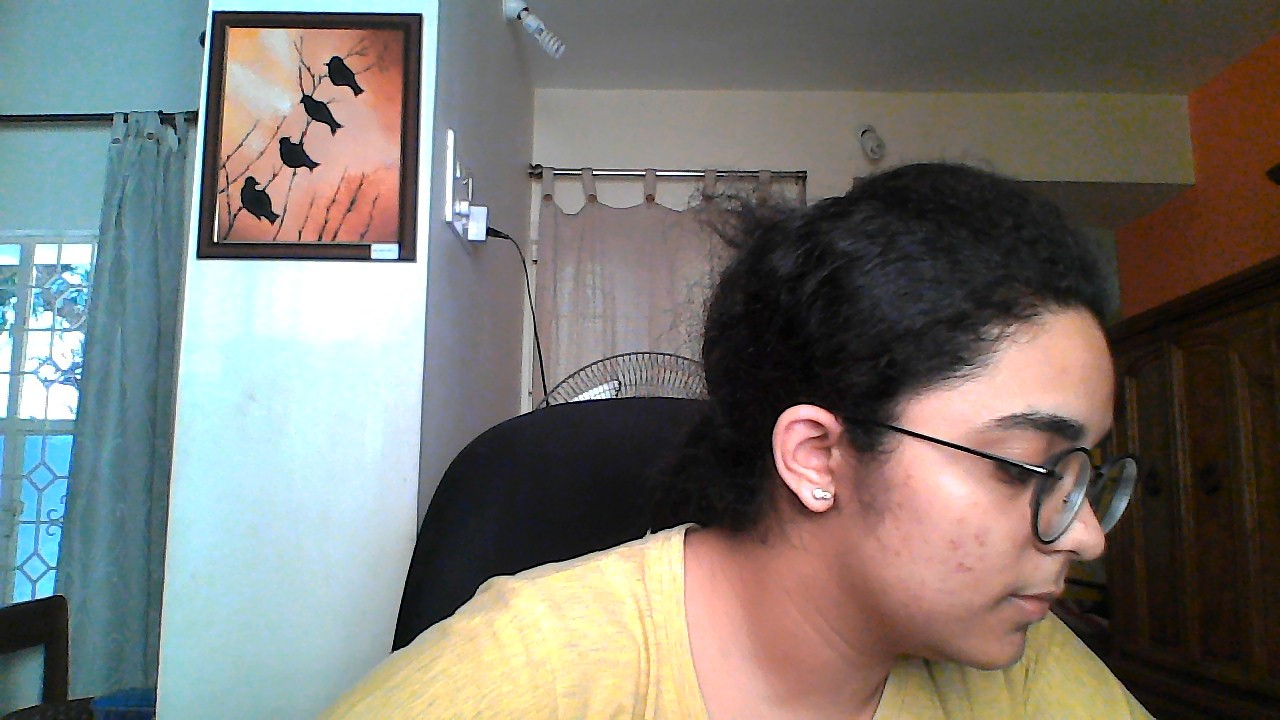person: (580, 87, 1177, 720)
